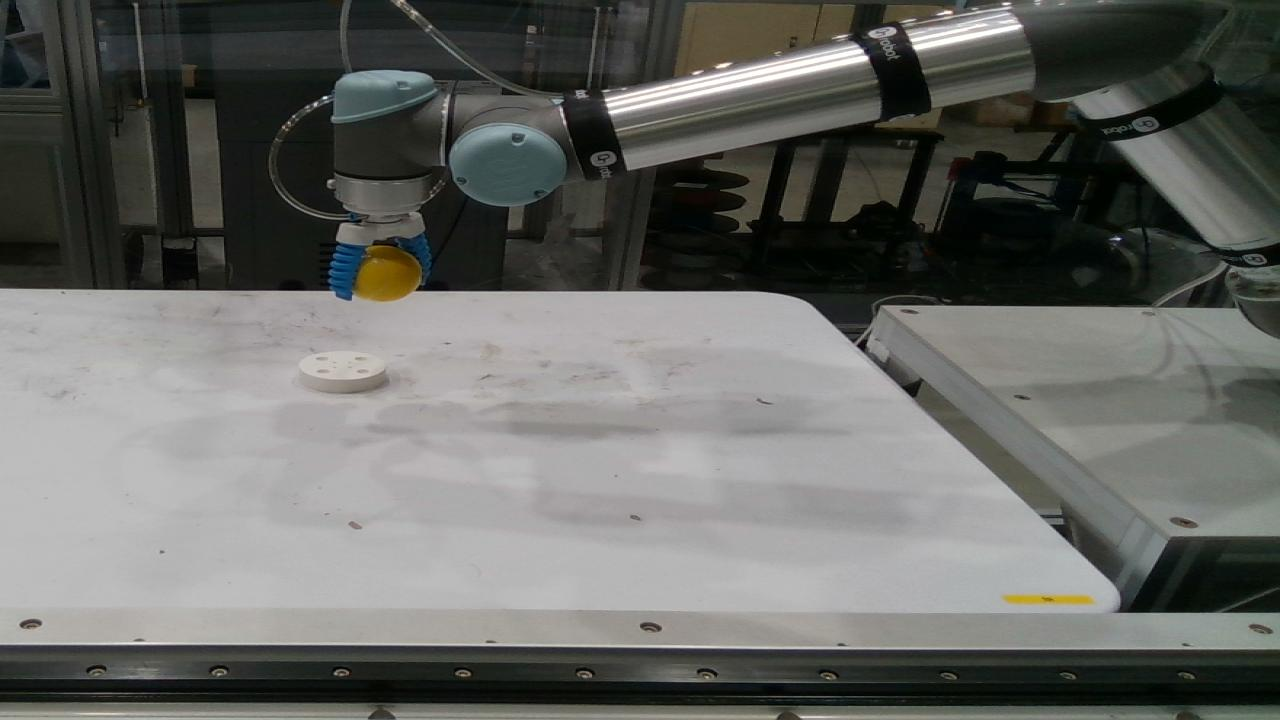UR5: (330, 0, 1279, 337)
gripper_left: (396, 232, 432, 286)
gripper_right: (329, 242, 366, 301)
target: (353, 245, 423, 301), (299, 352, 388, 393)
